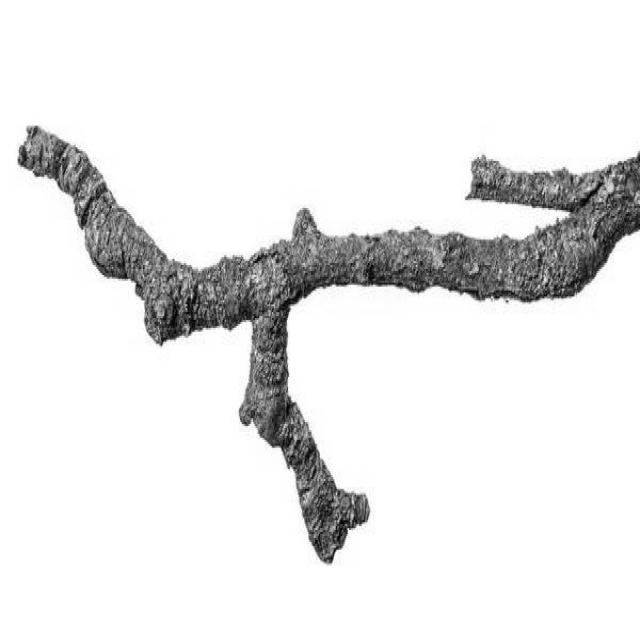Tree: (19, 125, 640, 560)
